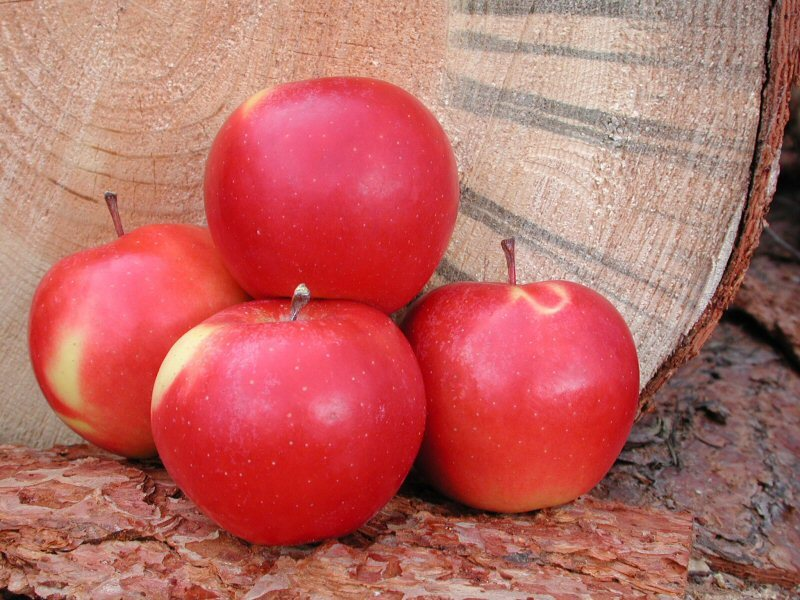apple: (150, 297, 424, 546), (431, 249, 635, 523), (31, 223, 183, 453)
